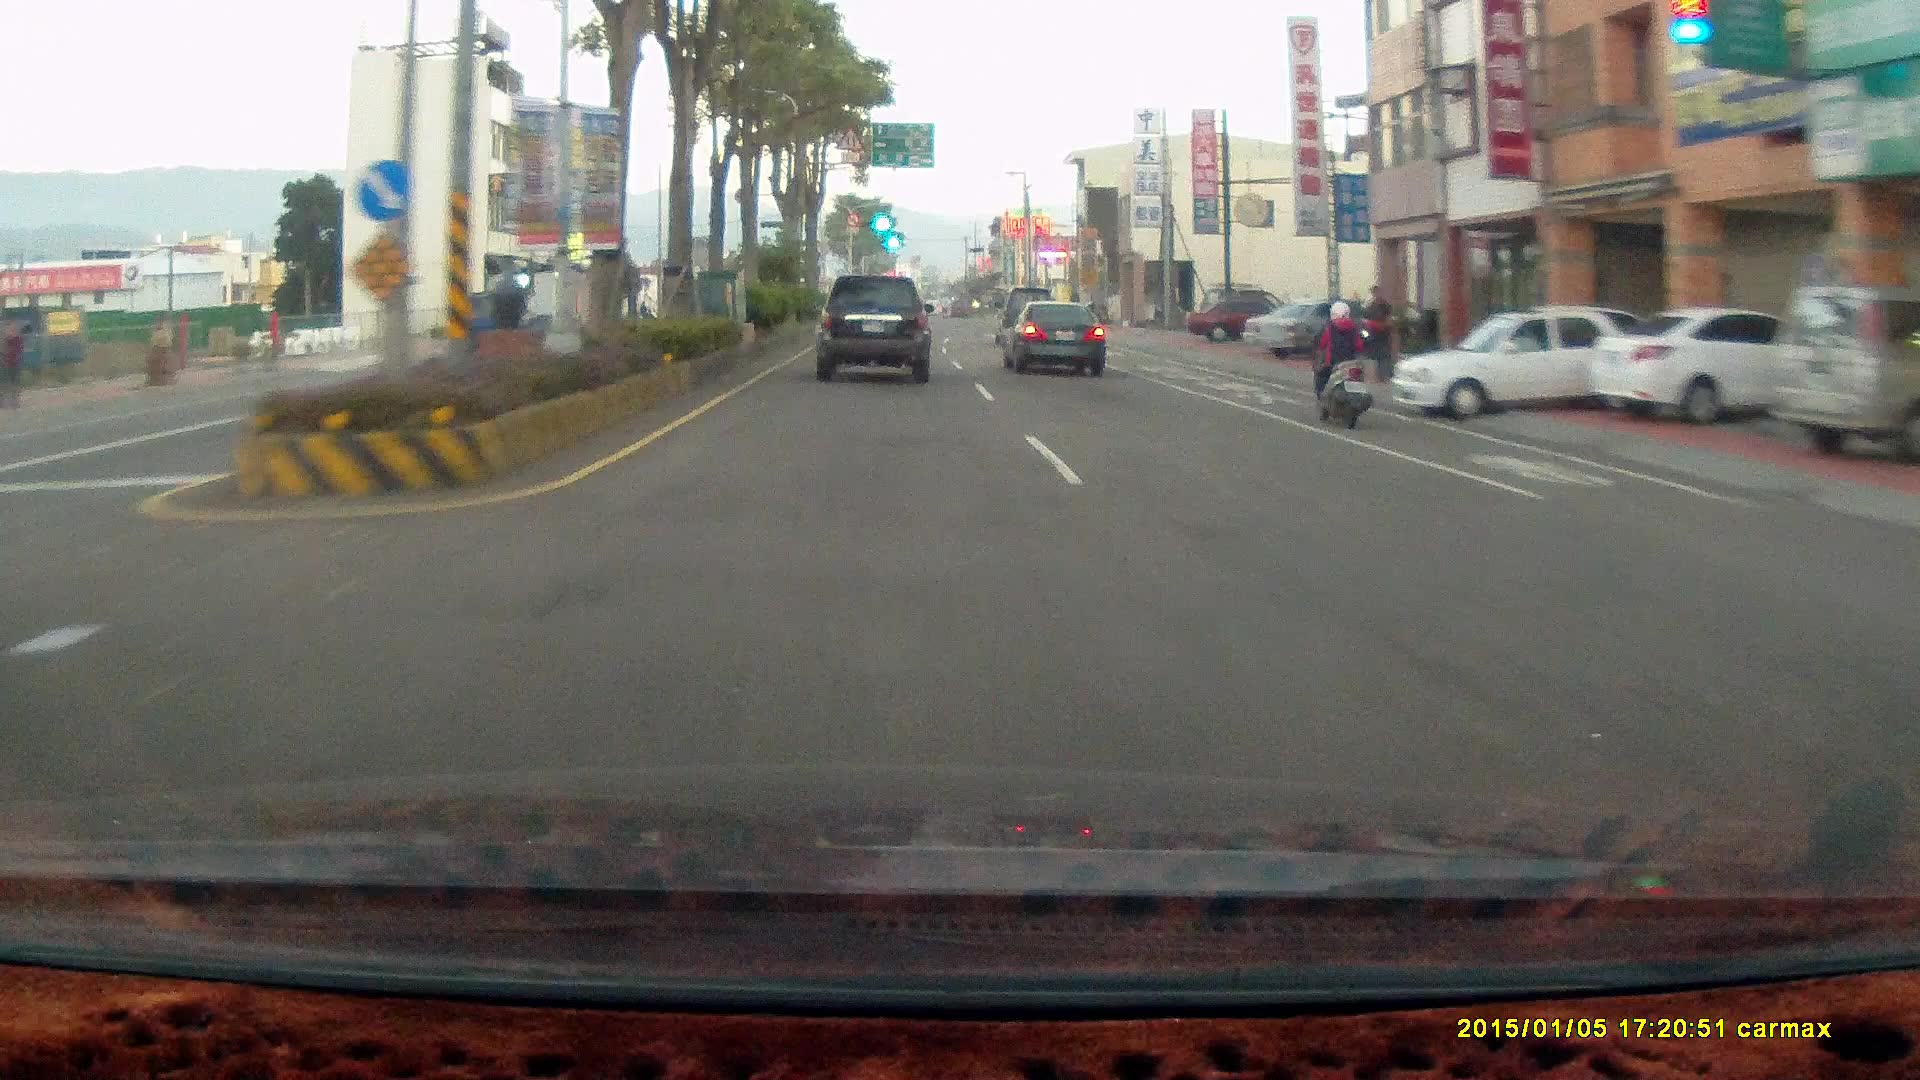pedestrian: (1356, 282, 1396, 381), (0, 321, 24, 412)
rider: (1296, 286, 1387, 437), (1306, 302, 1372, 432)
vehicle: (1587, 306, 1866, 430), (1388, 306, 1677, 414), (1764, 286, 1920, 466), (1391, 308, 1635, 418), (1582, 311, 1799, 430), (809, 274, 940, 388), (814, 277, 934, 388), (1243, 296, 1391, 359), (1243, 298, 1391, 360), (1001, 298, 1105, 377), (1007, 302, 1108, 379), (1186, 300, 1300, 343), (993, 287, 1055, 344)
